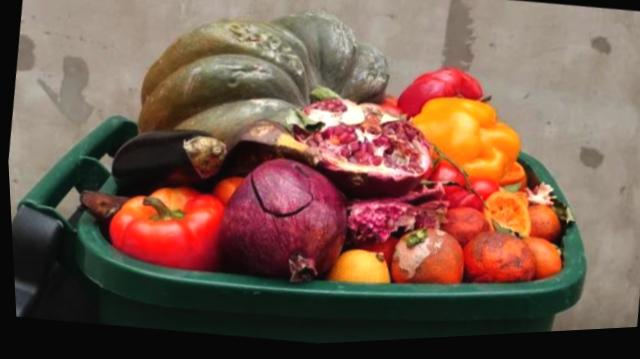Garbage: (70, 10, 580, 294)
